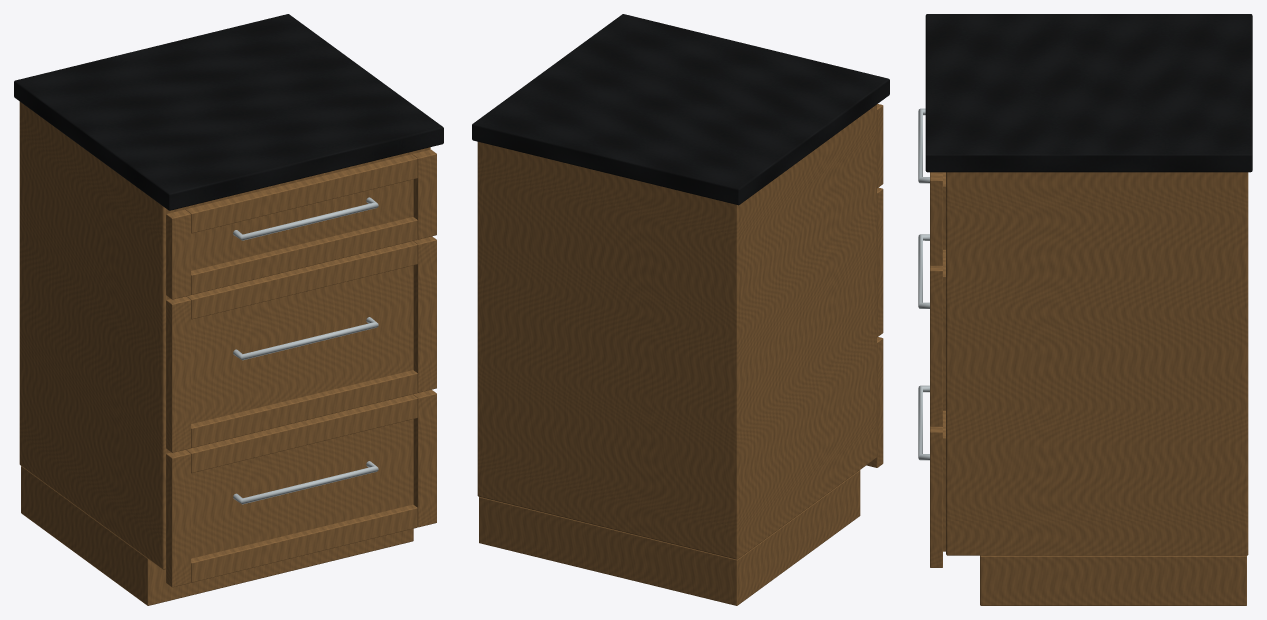
File: base-cabinet.glb
3 renders of one model, left to right at view 1: azimuth 30°, elevation 25°; view 2: azimuth 150°, elevation 25°; view 3: azimuth 270°, elevation 25°, orthographic. The views are drawn at different scales.
Visible parts, largest first — view 1: base-cabinet · oak.001, base-cabinet · stone.001, base-cabinet · metal.002; view 2: base-cabinet · oak.001, base-cabinet · stone.001; view 3: base-cabinet · oak.001, base-cabinet · stone.001, base-cabinet · metal.002.
Boxes of the visible parts, x1,y1,x2,y2 form: base-cabinet · oak.001: (19,101,436,605); base-cabinet · stone.001: (14,14,443,210); base-cabinet · metal.002: (233,197,378,504); base-cabinet · oak.001: (477,104,883,605); base-cabinet · stone.001: (472,14,889,205); base-cabinet · oak.001: (930,172,1248,605); base-cabinet · stone.001: (925,14,1252,172); base-cabinet · metal.002: (918,108,929,460).
Size of the model in its own units: 0.6 by 0.9 by 0.6.
Materials: 3 (2 with a texture image).
